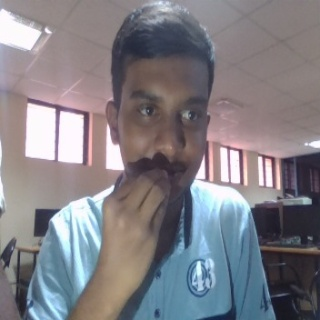Food: (98, 167, 172, 305)
